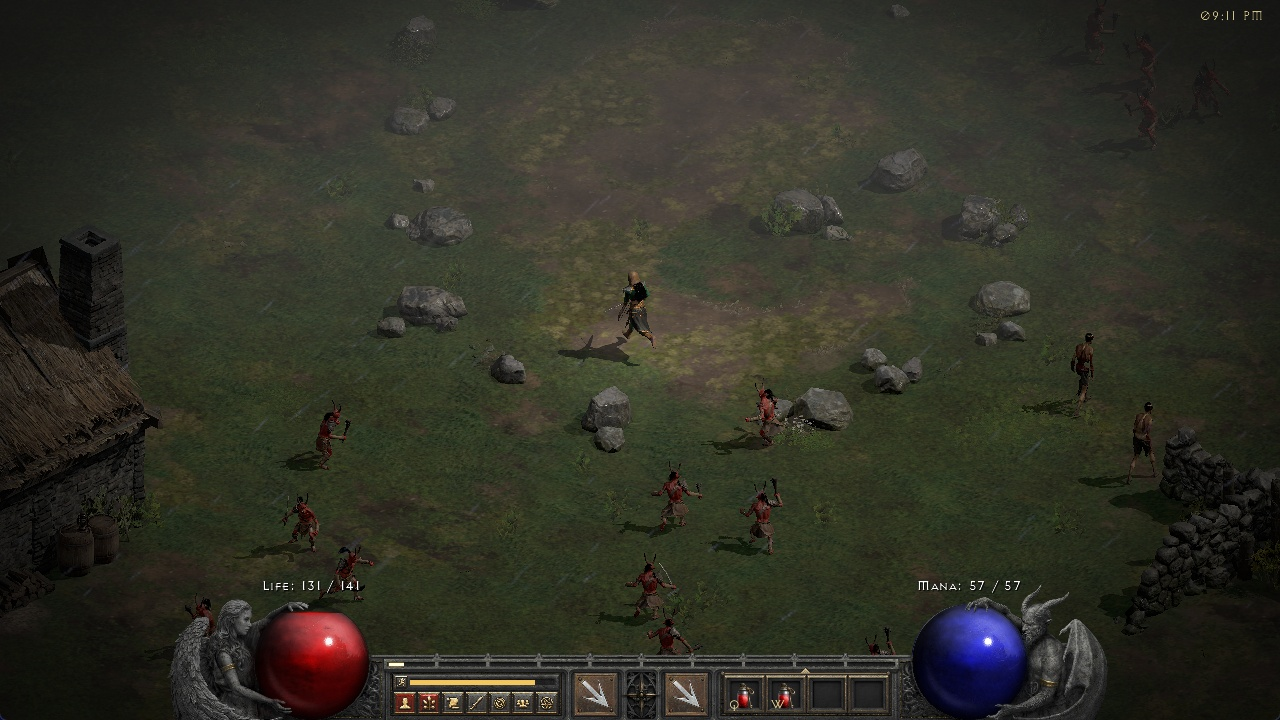fallen: (735, 473, 790, 556), (644, 458, 703, 533), (308, 395, 363, 475), (742, 379, 791, 449), (623, 550, 675, 615), (279, 487, 323, 550), (1119, 35, 1169, 90), (328, 541, 373, 596), (1188, 62, 1231, 119), (1085, 1, 1119, 68), (1124, 91, 1162, 144), (643, 618, 693, 656), (859, 623, 896, 656), (186, 592, 212, 618)
